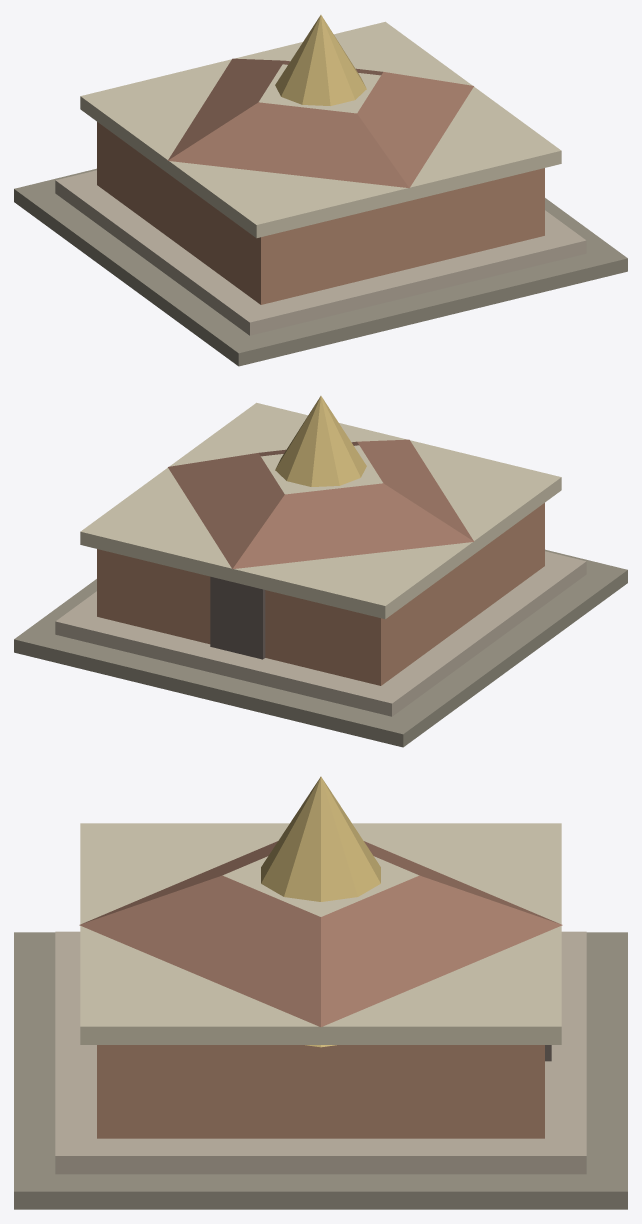
Rendered from lawka-hteik-pan.glb.
3 renders of one model, top to bottom at view 1: azimuth 30°, elevation 25°; view 2: azimuth 150°, elevation 25°; view 3: azimuth 270°, elevation 25°, orthographic. The views are drawn at different scales.
Size of the model in its own units: 3.7 by 2.02 by 3.7.
